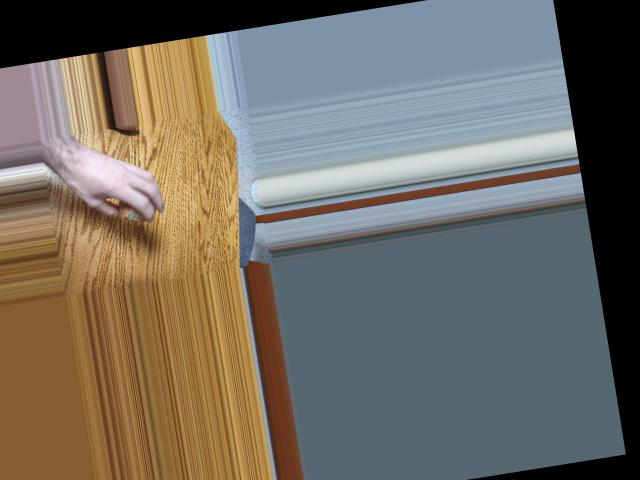onion: (115, 189, 159, 224)
